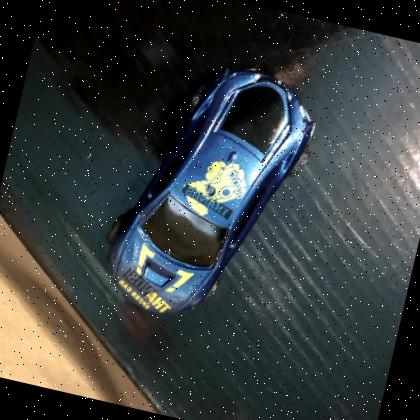Car: (89, 40, 328, 342)
